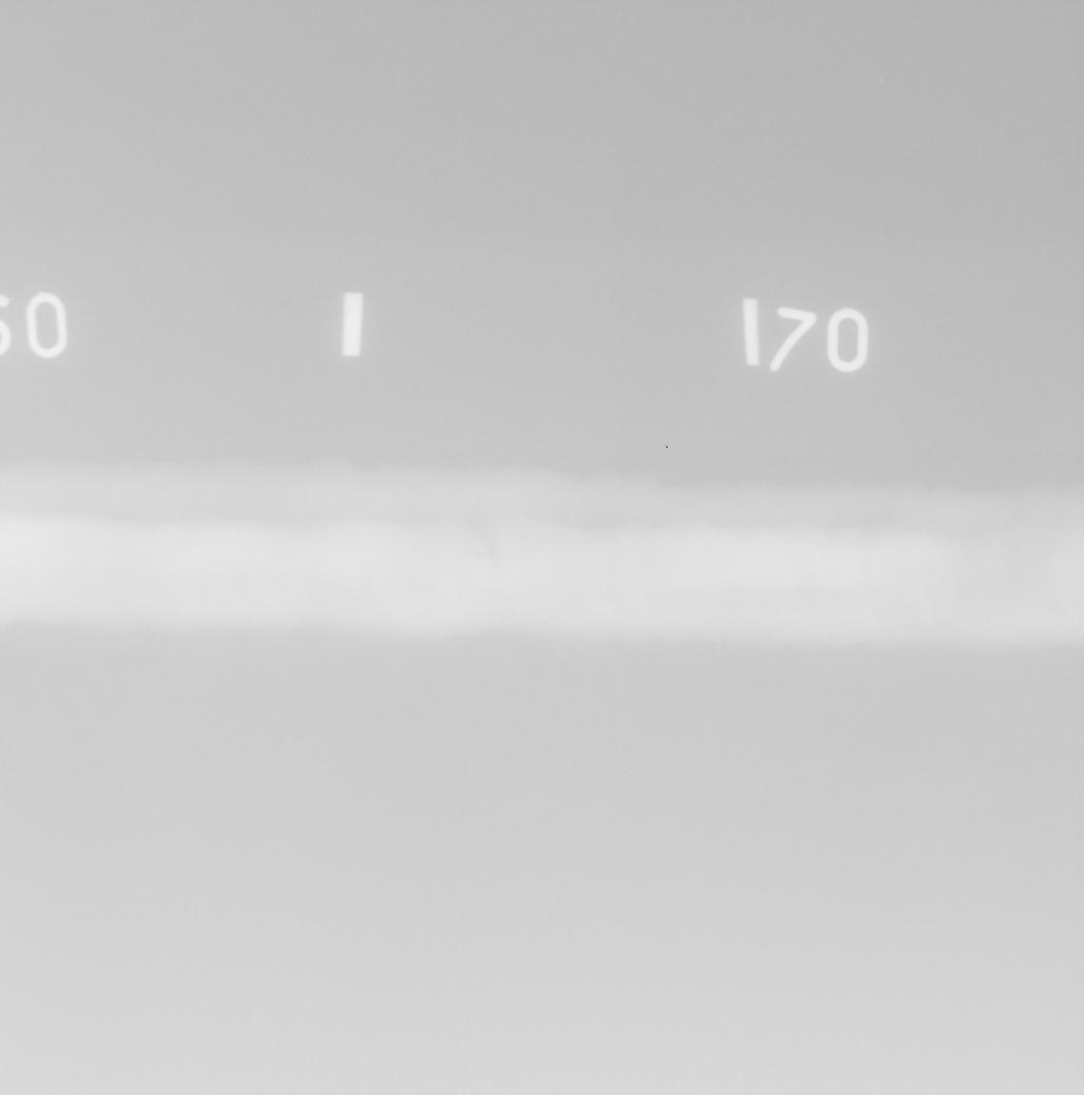Inclusion: (476, 550, 487, 561)
